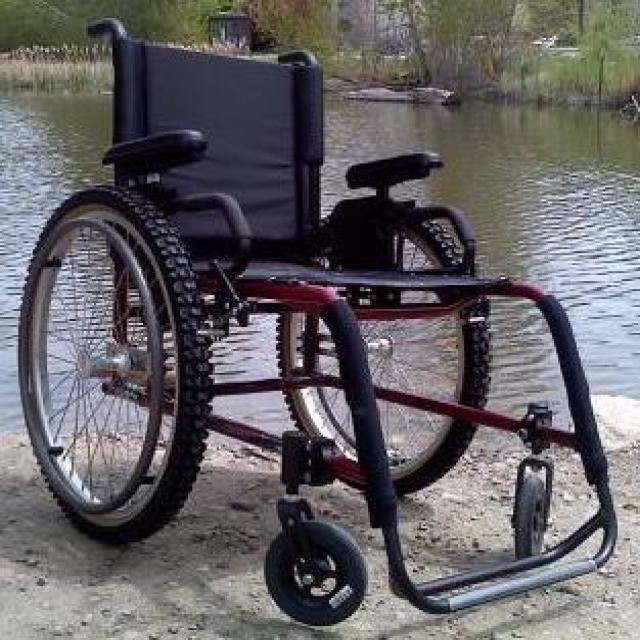wheelchairs: (20, 18, 628, 626)
